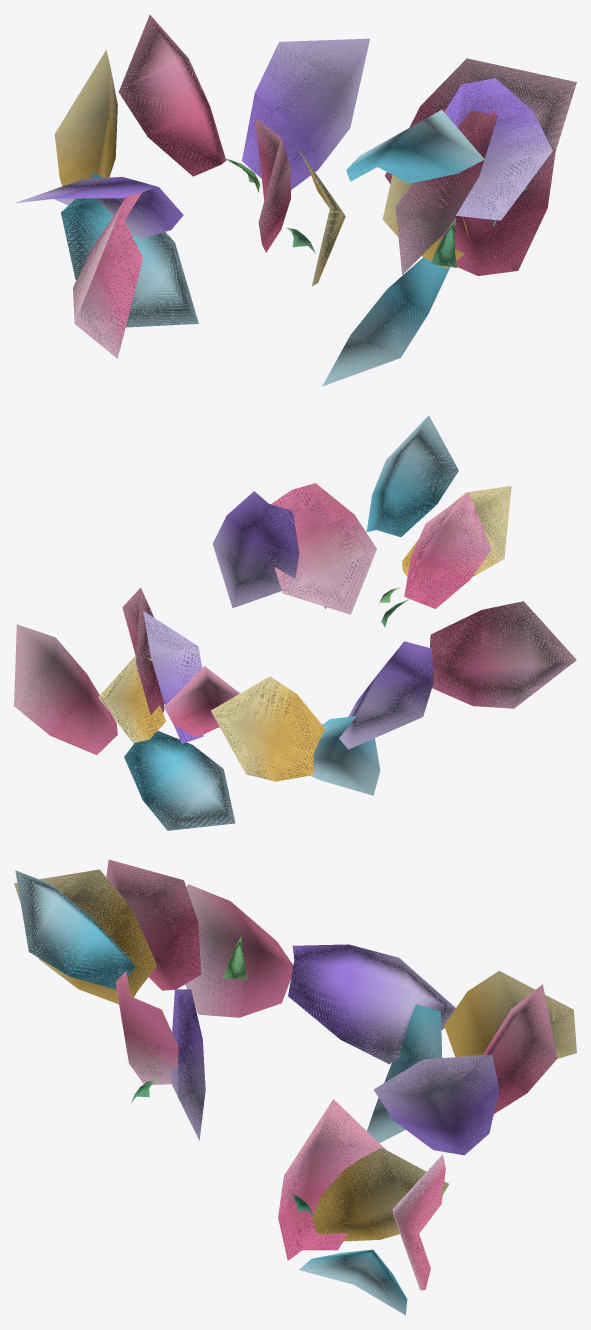
The model's file is verdant_float_petals.glb.
The picture shows the model from 3 angles, top to bottom: view 1: azimuth 30°, elevation 25°; view 2: azimuth 150°, elevation 25°; view 3: azimuth 270°, elevation 25°; orthographic projection. The views are drawn at different scales.
Visible parts, largest first — view 1: verdant_float_petals; view 2: verdant_float_petals; view 3: verdant_float_petals.
Boxes of the visible parts, x1,y1,x2,y2 form: verdant_float_petals: (14, 14, 576, 386); verdant_float_petals: (14, 415, 576, 830); verdant_float_petals: (14, 859, 576, 1315).
Size of the model in its own units: 3.62 by 2.4 by 3.16.
